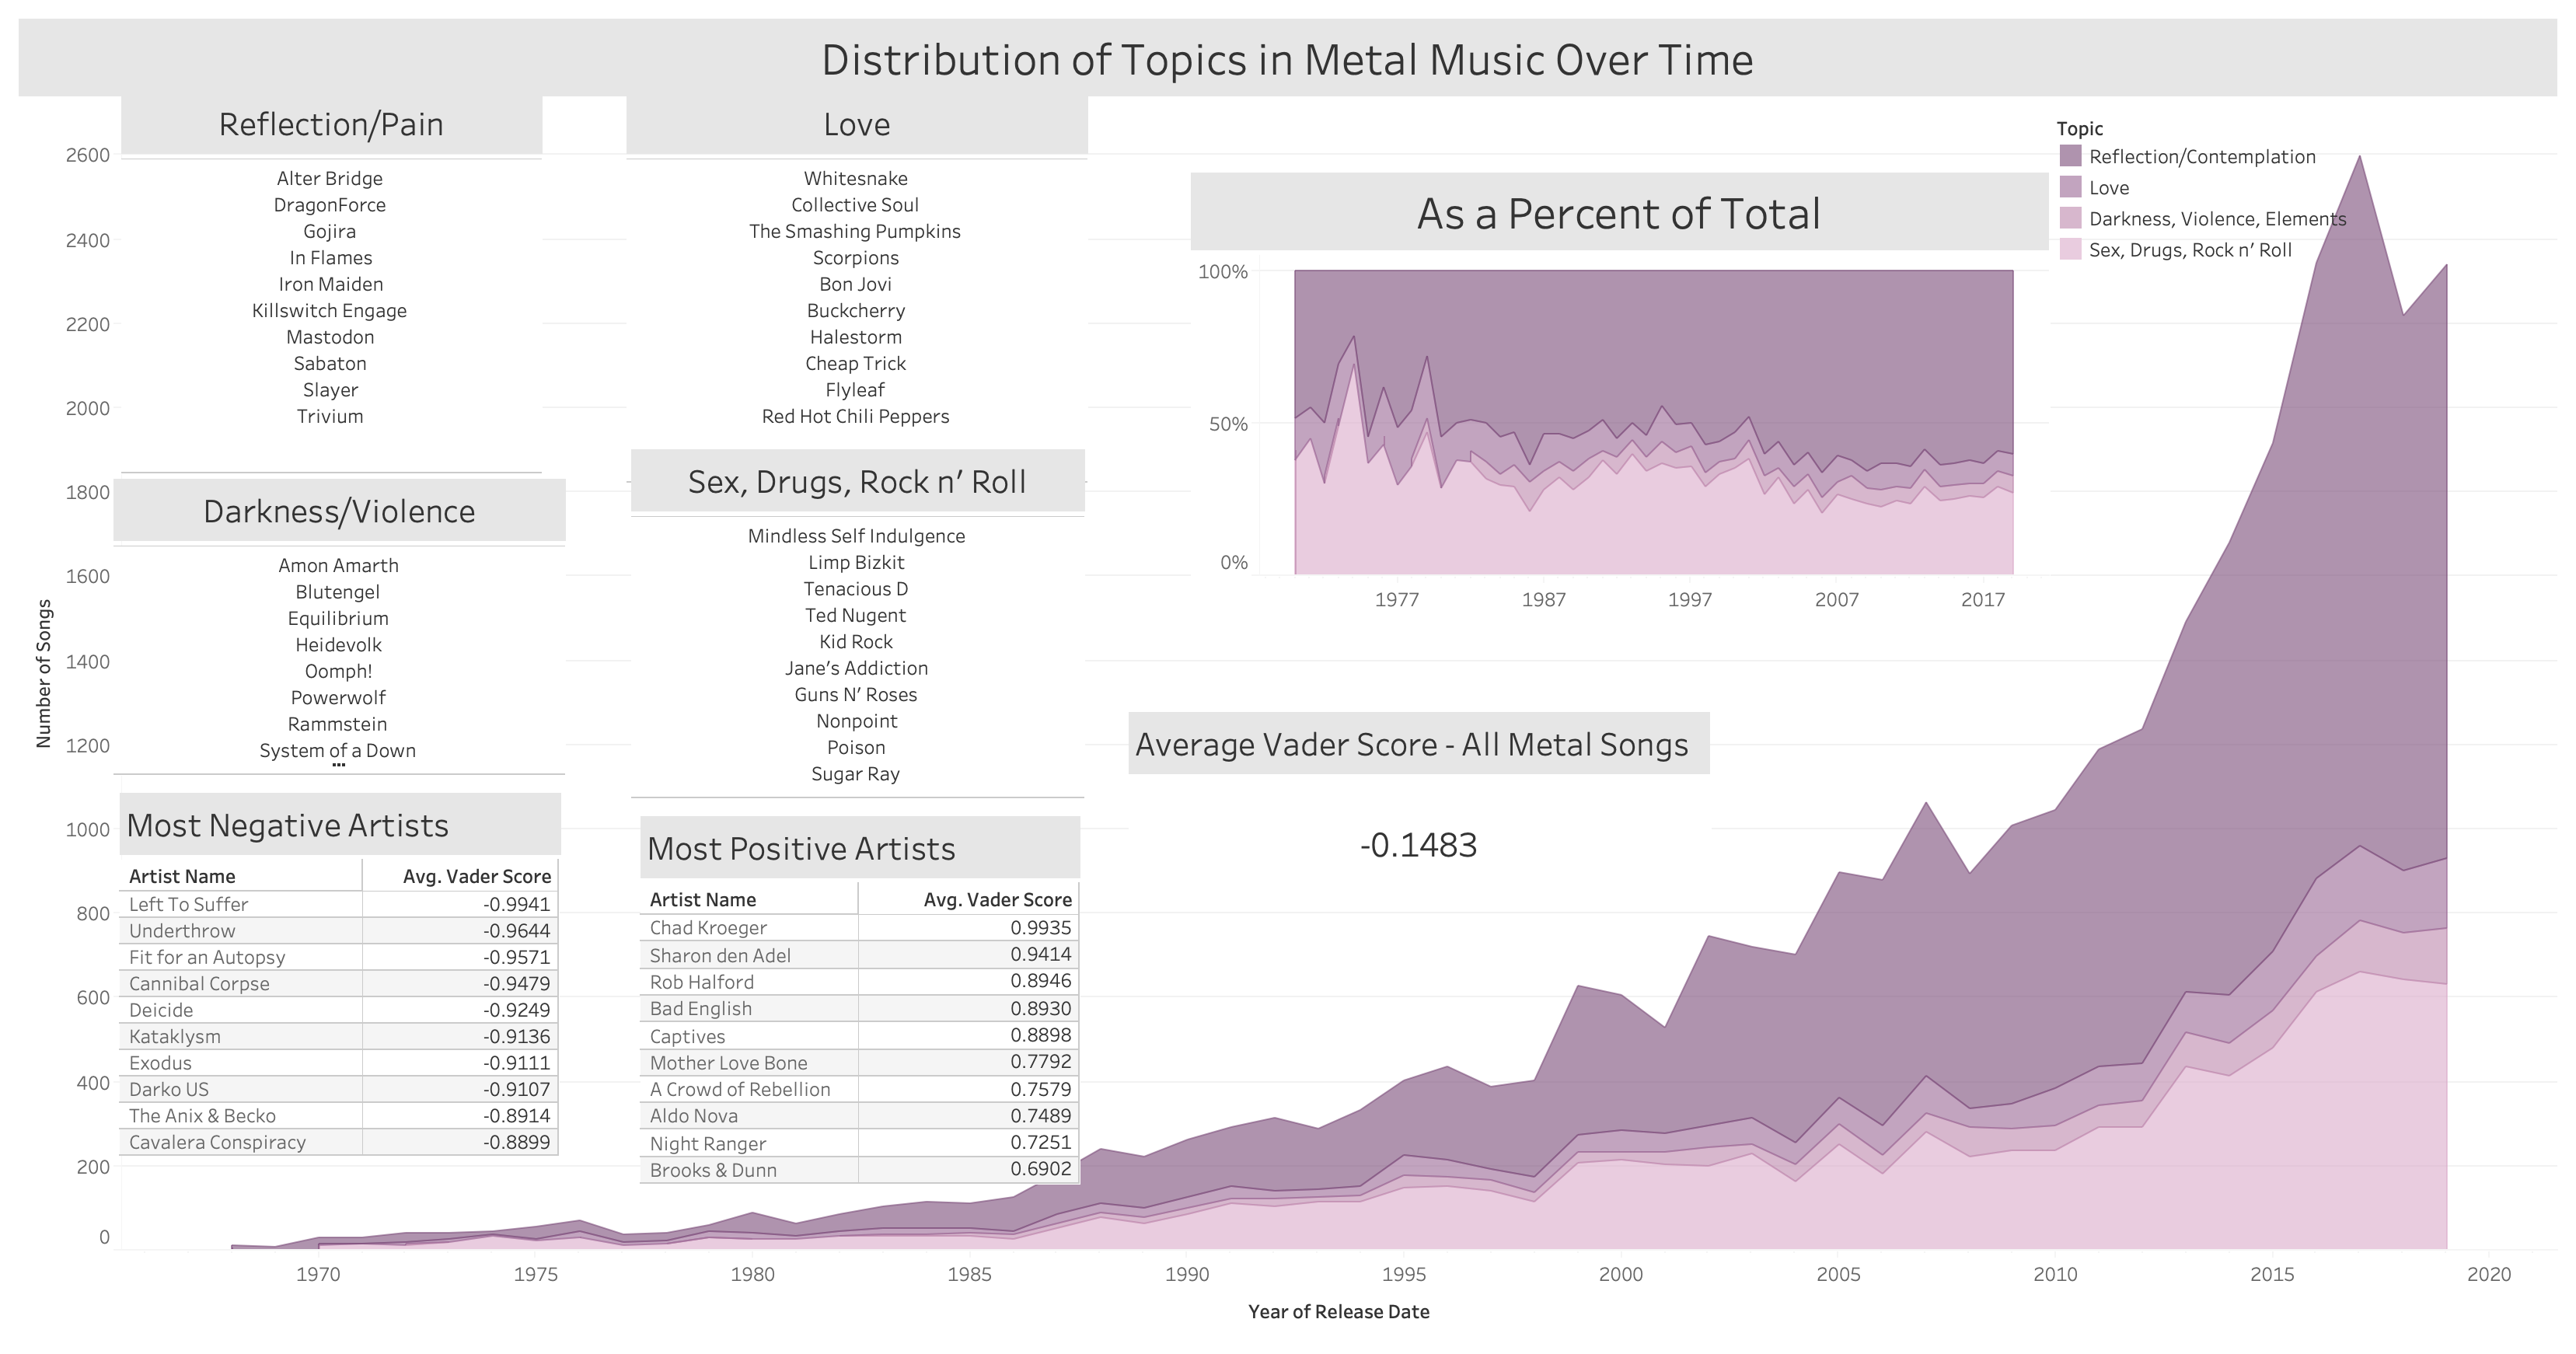

The dashboard page shown, as its layout file describes it:
{"tool":"tableau","page":{"name":"Metal Dashboard","canvas":[1000,1000],"units":"permille","ordinal":1},"visuals":[{"type":"worksheet","box":[0,0,1000,1000]},{"type":"worksheet","param":"horz","box":[4.8,9.2,990.3,981.6]},{"type":"worksheet","box":[4.8,9.2,990.3,981.6]},{"type":"worksheet","title":"Distribution of Topics in Metal Music Over Time","mark":"Area","rows":["topic_assignments.csv_342F0EE2842E42238B578A7992B54AA9"],"cols":["release_date"],"box":[4.8,9.2,990.3,981.6]},{"type":"worksheet","title":"Reflection","mark":"Automatic","cols":["topic"],"box":[46.8,67.9,163.8,282.1]},{"type":"worksheet","title":"Love","mark":"Automatic","cols":["topic"],"box":[243.4,67.9,179.1,289.5]},{"type":"worksheet","title":"Distribution of Topics in Metal Music Over Time","mark":"Area","rows":["topic_assignments.csv_342F0EE2842E42238B578A7992B54AA9"],"cols":["release_date"],"param":"[federated.1eogs1c0yfe5tm1e3er8t0vi32vg].[none:topic:ok]","box":[797.5,82.7,117,119.8]},{"type":"worksheet","title":"Distribution of Topics in Metal Music Over Time (2)","mark":"Area","cols":["release_date"],"box":[462.3,127.2,332.9,331.9]},{"type":"worksheet","title":"Party/Sex","mark":"Automatic","cols":["topic"],"box":[245,331.8,176.2,258.3]},{"type":"worksheet","title":"Violence","mark":"Automatic","cols":["topic"],"box":[44.1,353.6,175.6,237.7]},{"type":"worksheet","title":"Average Vader Score - All Metal Songs","mark":"Automatic","box":[438.3,526,225.9,146.3]},{"type":"worksheet","title":"Most Negative Artists","mark":"Automatic","rows":["Vader (copy)_95279324536721408","artist_name"],"box":[46.5,601.6,171.4,268.7]},{"type":"worksheet","title":"Most Positive Artists","mark":"Automatic","rows":["Vader (copy)_95279324536721408","artist_name"],"box":[248.7,602.3,170.9,272.5]}]}

Visuals, with their boxes on the dashboard's canvas, which has no fixed pixel size, in thousandths of its width and height (x1, y1, x2, y2). These are canvas units, not pixel positions in the 2576x1354 screenshot, which may show the page scaled, cropped or inside an application window:
worksheet: [0, 0, 1000, 1000]
worksheet: [5, 9, 995, 991]
worksheet: [5, 9, 995, 991]
"Distribution of Topics in Metal Music Over Time" worksheet (Area marks): [5, 9, 995, 991]
"Reflection" worksheet: [47, 68, 211, 350]
"Love" worksheet: [243, 68, 422, 357]
"Distribution of Topics in Metal Music Over Time" worksheet (Area marks): [798, 83, 914, 202]
"Distribution of Topics in Metal Music Over Time (2)" worksheet (Area marks): [462, 127, 795, 459]
"Party/Sex" worksheet: [245, 332, 421, 590]
"Violence" worksheet: [44, 354, 220, 591]
"Average Vader Score - All Metal Songs" worksheet: [438, 526, 664, 672]
"Most Negative Artists" worksheet: [46, 602, 218, 870]
"Most Positive Artists" worksheet: [249, 602, 420, 875]
